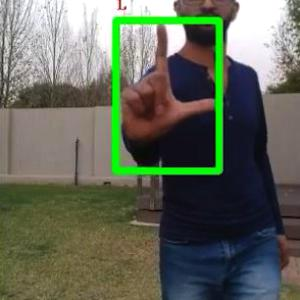land_hand: (115, 15, 226, 147)
